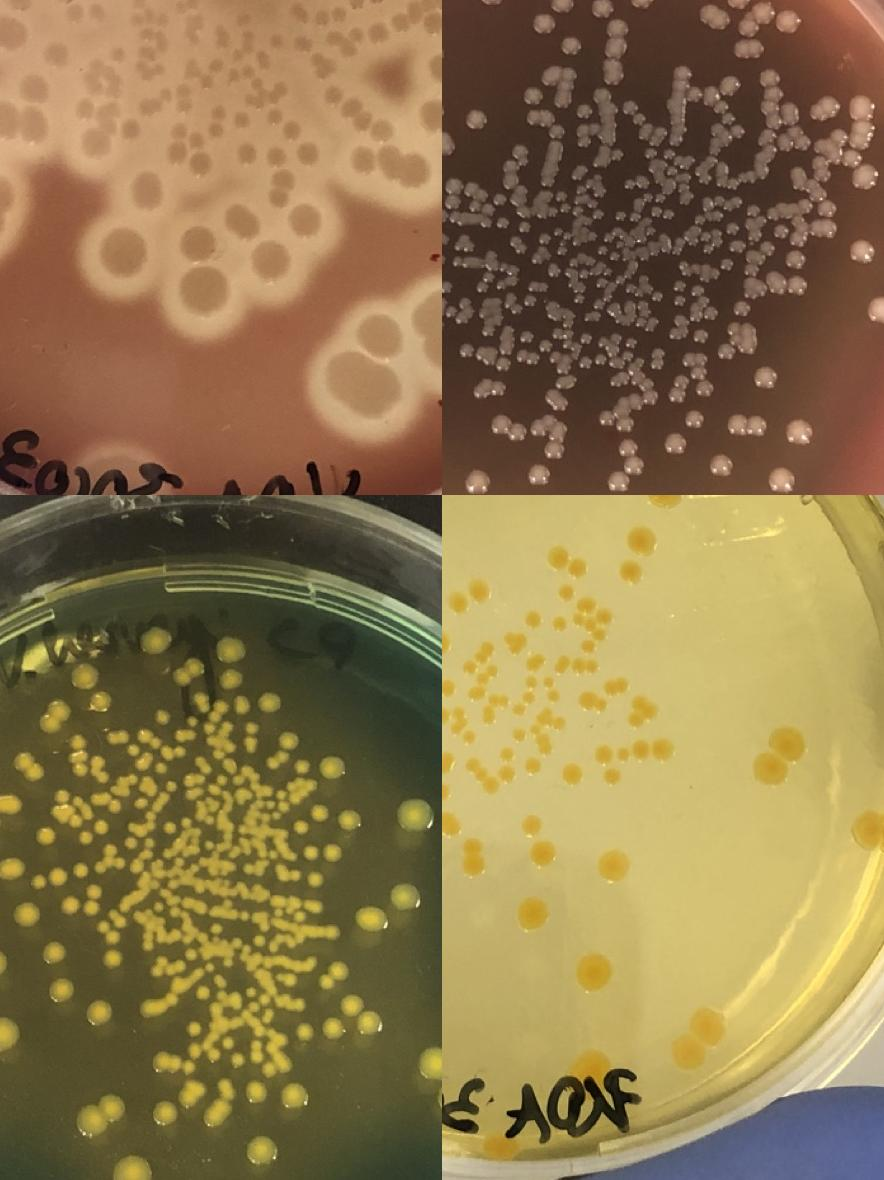assalmonicida: (605, 437, 646, 495), (487, 412, 547, 444), (841, 149, 880, 190), (533, 0, 574, 34), (723, 412, 771, 440), (717, 336, 761, 364), (784, 251, 809, 296), (759, 66, 785, 106), (543, 422, 569, 461), (776, 126, 812, 152), (750, 365, 783, 393), (845, 237, 878, 265), (767, 467, 799, 495), (704, 450, 736, 478), (461, 468, 494, 495), (470, 194, 508, 217), (784, 419, 816, 446), (524, 464, 552, 492), (648, 194, 675, 222), (510, 222, 532, 256), (538, 338, 562, 366), (444, 177, 463, 210), (663, 432, 689, 456), (671, 276, 689, 310), (700, 229, 722, 256), (815, 198, 839, 222), (719, 74, 743, 98), (708, 9, 732, 33), (521, 84, 545, 107), (604, 35, 627, 59), (752, 1, 776, 24), (577, 351, 606, 370), (692, 379, 716, 401), (866, 297, 884, 325), (466, 108, 487, 132), (561, 35, 582, 58), (516, 348, 540, 368), (592, 0, 614, 20), (649, 345, 665, 372), (617, 415, 636, 435), (555, 191, 571, 214), (442, 132, 455, 160), (686, 408, 704, 428), (526, 280, 550, 294), (765, 112, 783, 130), (692, 328, 710, 345), (703, 304, 719, 322), (628, 0, 654, 11), (494, 216, 511, 232), (771, 225, 789, 240), (726, 0, 750, 11), (496, 358, 514, 372), (457, 344, 475, 358), (608, 374, 622, 391), (520, 328, 534, 345), (572, 292, 586, 308), (579, 330, 593, 345), (478, 0, 508, 7), (625, 336, 639, 350), (720, 258, 734, 272), (538, 232, 552, 246), (726, 222, 740, 236), (577, 136, 591, 150), (442, 280, 455, 295), (516, 184, 528, 198), (638, 176, 650, 190), (592, 208, 604, 221), (633, 113, 645, 126), (722, 113, 734, 126), (645, 225, 657, 237), (693, 214, 705, 226), (629, 212, 641, 224), (615, 211, 627, 223), (712, 210, 724, 222), (748, 204, 760, 216), (714, 196, 726, 208), (730, 196, 742, 208), (623, 178, 635, 190), (666, 166, 678, 178), (645, 148, 657, 160), (664, 148, 676, 160), (442, 318, 446, 335)
pddamselae: (98, 228, 148, 278), (180, 268, 231, 314), (251, 242, 291, 282), (358, 314, 397, 354), (181, 224, 219, 262), (288, 204, 326, 242), (130, 172, 168, 210), (395, 152, 433, 190), (420, 313, 442, 374), (416, 93, 442, 133), (222, 202, 252, 233), (0, 99, 22, 139), (163, 140, 188, 164), (189, 152, 213, 176), (296, 140, 320, 164), (370, 119, 394, 143), (0, 176, 15, 213), (322, 82, 346, 104), (428, 52, 442, 81)
vharveyi: (672, 1010, 724, 1070), (754, 726, 806, 784), (149, 1086, 202, 1130), (76, 1093, 127, 1137), (264, 730, 312, 776), (414, 1046, 442, 1120), (339, 994, 383, 1034), (446, 578, 492, 616), (59, 882, 103, 920), (572, 606, 613, 644), (545, 547, 590, 580), (395, 798, 433, 836), (38, 696, 74, 736), (242, 1133, 280, 1169), (574, 1051, 610, 1089), (576, 953, 612, 988), (597, 848, 631, 883), (13, 749, 46, 785), (853, 811, 884, 849), (352, 904, 392, 933), (468, 759, 500, 795), (530, 706, 553, 755), (516, 900, 550, 933), (626, 695, 660, 728), (388, 880, 423, 912), (93, 842, 128, 874), (212, 634, 250, 663), (624, 524, 658, 556), (0, 792, 24, 837), (112, 1154, 153, 1180), (170, 658, 206, 687), (29, 864, 69, 890), (278, 1080, 310, 1112), (69, 660, 101, 691), (84, 998, 116, 1028), (10, 900, 42, 930), (302, 839, 342, 863), (140, 626, 172, 656), (634, 738, 674, 762), (317, 753, 349, 782), (0, 1014, 23, 1054), (462, 837, 485, 877), (46, 977, 78, 1005), (220, 1036, 245, 1069), (42, 938, 70, 966), (180, 1042, 203, 1076), (483, 694, 508, 725), (244, 986, 271, 1013), (0, 856, 27, 883), (335, 806, 363, 832), (96, 920, 122, 946), (266, 788, 291, 814), (256, 691, 284, 714), (244, 1080, 270, 1104), (320, 1017, 346, 1041), (88, 691, 115, 714), (530, 841, 554, 865), (520, 813, 544, 837), (619, 560, 643, 584), (561, 762, 586, 785), (578, 691, 606, 711), (219, 668, 243, 691), (101, 949, 123, 973), (32, 824, 56, 846), (505, 632, 527, 655), (450, 708, 468, 736), (150, 1051, 172, 1073), (310, 802, 332, 824), (330, 959, 351, 981), (249, 1038, 265, 1066), (602, 678, 628, 695), (106, 728, 130, 746), (476, 666, 497, 686), (295, 1022, 315, 1042), (70, 762, 90, 782), (152, 707, 172, 727), (647, 495, 682, 506), (292, 817, 312, 835), (70, 732, 90, 750), (476, 642, 494, 662), (72, 861, 90, 880), (510, 725, 528, 744), (194, 984, 212, 1002), (53, 788, 71, 806), (603, 768, 621, 786), (499, 765, 517, 783), (524, 758, 542, 776), (594, 746, 612, 764), (577, 595, 595, 613), (558, 584, 576, 602), (554, 656, 571, 674), (186, 1020, 202, 1038), (308, 870, 324, 888), (525, 610, 541, 627), (525, 656, 541, 672), (552, 616, 568, 632), (153, 760, 167, 778), (442, 679, 456, 697), (442, 633, 453, 655), (442, 752, 454, 772), (462, 660, 478, 675), (162, 820, 176, 837), (442, 812, 455, 830), (251, 934, 267, 948), (124, 836, 140, 850), (79, 830, 93, 846), (134, 796, 148, 812), (152, 902, 166, 916), (94, 820, 108, 834), (68, 814, 82, 828), (127, 743, 141, 757), (203, 721, 217, 735), (210, 921, 224, 934), (173, 746, 187, 759), (148, 738, 162, 751), (166, 779, 178, 794), (442, 782, 452, 800), (442, 706, 452, 724), (284, 974, 296, 988), (185, 948, 197, 962), (180, 814, 192, 828), (186, 714, 198, 728), (616, 748, 628, 762), (553, 716, 565, 730), (204, 961, 216, 974), (216, 774, 228, 787), (194, 756, 206, 769), (212, 749, 225, 761), (501, 748, 513, 761), (513, 703, 525, 716), (548, 690, 560, 703), (524, 675, 536, 688), (583, 640, 595, 653), (203, 840, 215, 852), (463, 732, 475, 744), (522, 692, 534, 704), (469, 688, 481, 700), (543, 676, 555, 688), (586, 662, 598, 674)
